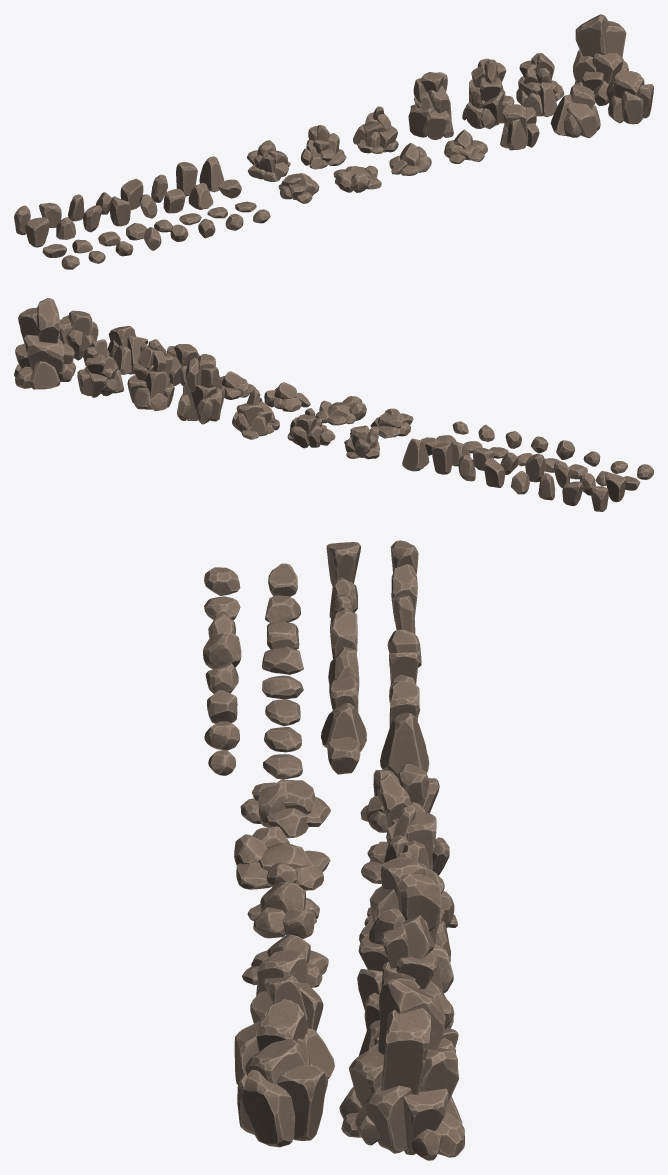
The model's file is more_rocks.glb.
The picture shows the model from 3 angles, top to bottom: view 1: azimuth 30°, elevation 25°; view 2: azimuth 150°, elevation 25°; view 3: azimuth 270°, elevation 25°; orthographic projection. The views are drawn at different scales.
Parts seen in each view (by area): view 1: Desert_Rock_Group7, Desert_Rock_Group4, Desert_Rock_Group5, Desert_Rock_Group6, Desert_Rock_Group14, Desert_Rock_Group13, Desert_Rock_Group12, Desert_Rock_Group3, Desert_Rock_Group2, Desert_Rock_Group1, Desert_Rock_Group9, Desert_Rock_Group11 (+11 smaller); view 2: Desert_Rock_Group7, Desert_Rock_Group5, Desert_Rock_Group4, Desert_Rock_Group6, Desert_Rock_Group3, Desert_Rock_Group14, Desert_Rock_Group13, Desert_Rock_Group2, Desert_Rock_Group9, Desert_Rock_Group1, Desert_Rock_Group10, Desert_Rock_Group8 (+14 smaller); view 3: Desert_Rock_Group7, Desert_Rock_Group14, Desert_Rock_Group5, Desert_Rock_Group4, Desert_Rock_Group9, Desert_Rock_Group13, Desert_Rock_Group8, Desert_Rock_Group2, Desert_Rock_Group12, Desert_Rock_Group1, Desert_Rock_Group10, Desert_Rock8 (+11 smaller).
Boxes of the visible parts, bbox=[...] form: Desert_Rock_Group7: bbox=[573, 14, 628, 105]; Desert_Rock_Group4: bbox=[408, 72, 453, 139]; Desert_Rock_Group5: bbox=[462, 58, 514, 129]; Desert_Rock_Group6: bbox=[516, 53, 564, 116]; Desert_Rock_Group14: bbox=[606, 70, 653, 124]; Desert_Rock_Group13: bbox=[550, 84, 600, 137]; Desert_Rock_Group12: bbox=[500, 104, 539, 150]; Desert_Rock_Group3: bbox=[353, 106, 398, 153]; Desert_Rock_Group2: bbox=[301, 125, 346, 169]; Desert_Rock_Group1: bbox=[247, 140, 290, 181]; Desert_Rock_Group9: bbox=[333, 165, 381, 192]; Desert_Rock_Group11: bbox=[444, 129, 487, 163]; Desert_Rock_Group7: bbox=[14, 298, 75, 389]; Desert_Rock_Group5: bbox=[127, 339, 174, 410]; Desert_Rock_Group4: bbox=[177, 354, 224, 424]; Desert_Rock_Group6: bbox=[77, 339, 124, 397]; Desert_Rock_Group3: bbox=[232, 389, 279, 439]; Desert_Rock_Group14: bbox=[59, 310, 98, 360]; Desert_Rock_Group13: bbox=[107, 326, 148, 374]; Desert_Rock_Group2: bbox=[287, 408, 335, 448]; Desert_Rock_Group9: bbox=[315, 396, 366, 425]; Desert_Rock_Group1: bbox=[344, 425, 379, 459]; Desert_Rock_Group10: bbox=[264, 382, 310, 411]; Desert_Rock_Group8: bbox=[370, 408, 413, 438]; Desert_Rock_Group7: bbox=[339, 979, 464, 1160]; Desert_Rock_Group14: bbox=[237, 1038, 328, 1147]; Desert_Rock_Group5: bbox=[357, 908, 453, 1030]; Desert_Rock_Group4: bbox=[359, 857, 453, 993]; Desert_Rock_Group9: bbox=[234, 826, 330, 890]; Desert_Rock_Group13: bbox=[234, 999, 334, 1084]; Desert_Rock_Group8: bbox=[240, 779, 330, 838]; Desert_Rock_Group2: bbox=[361, 806, 449, 883]; Desert_Rock_Group12: bbox=[250, 949, 323, 1031]; Desert_Rock_Group1: bbox=[360, 764, 439, 832]; Desert_Rock_Group10: bbox=[247, 882, 319, 938]; Desert_Rock8: bbox=[380, 713, 429, 777].
Bounding box in the file's own units: 22.42 × 2.95 × 4.31.
1 material, 1 textured.
